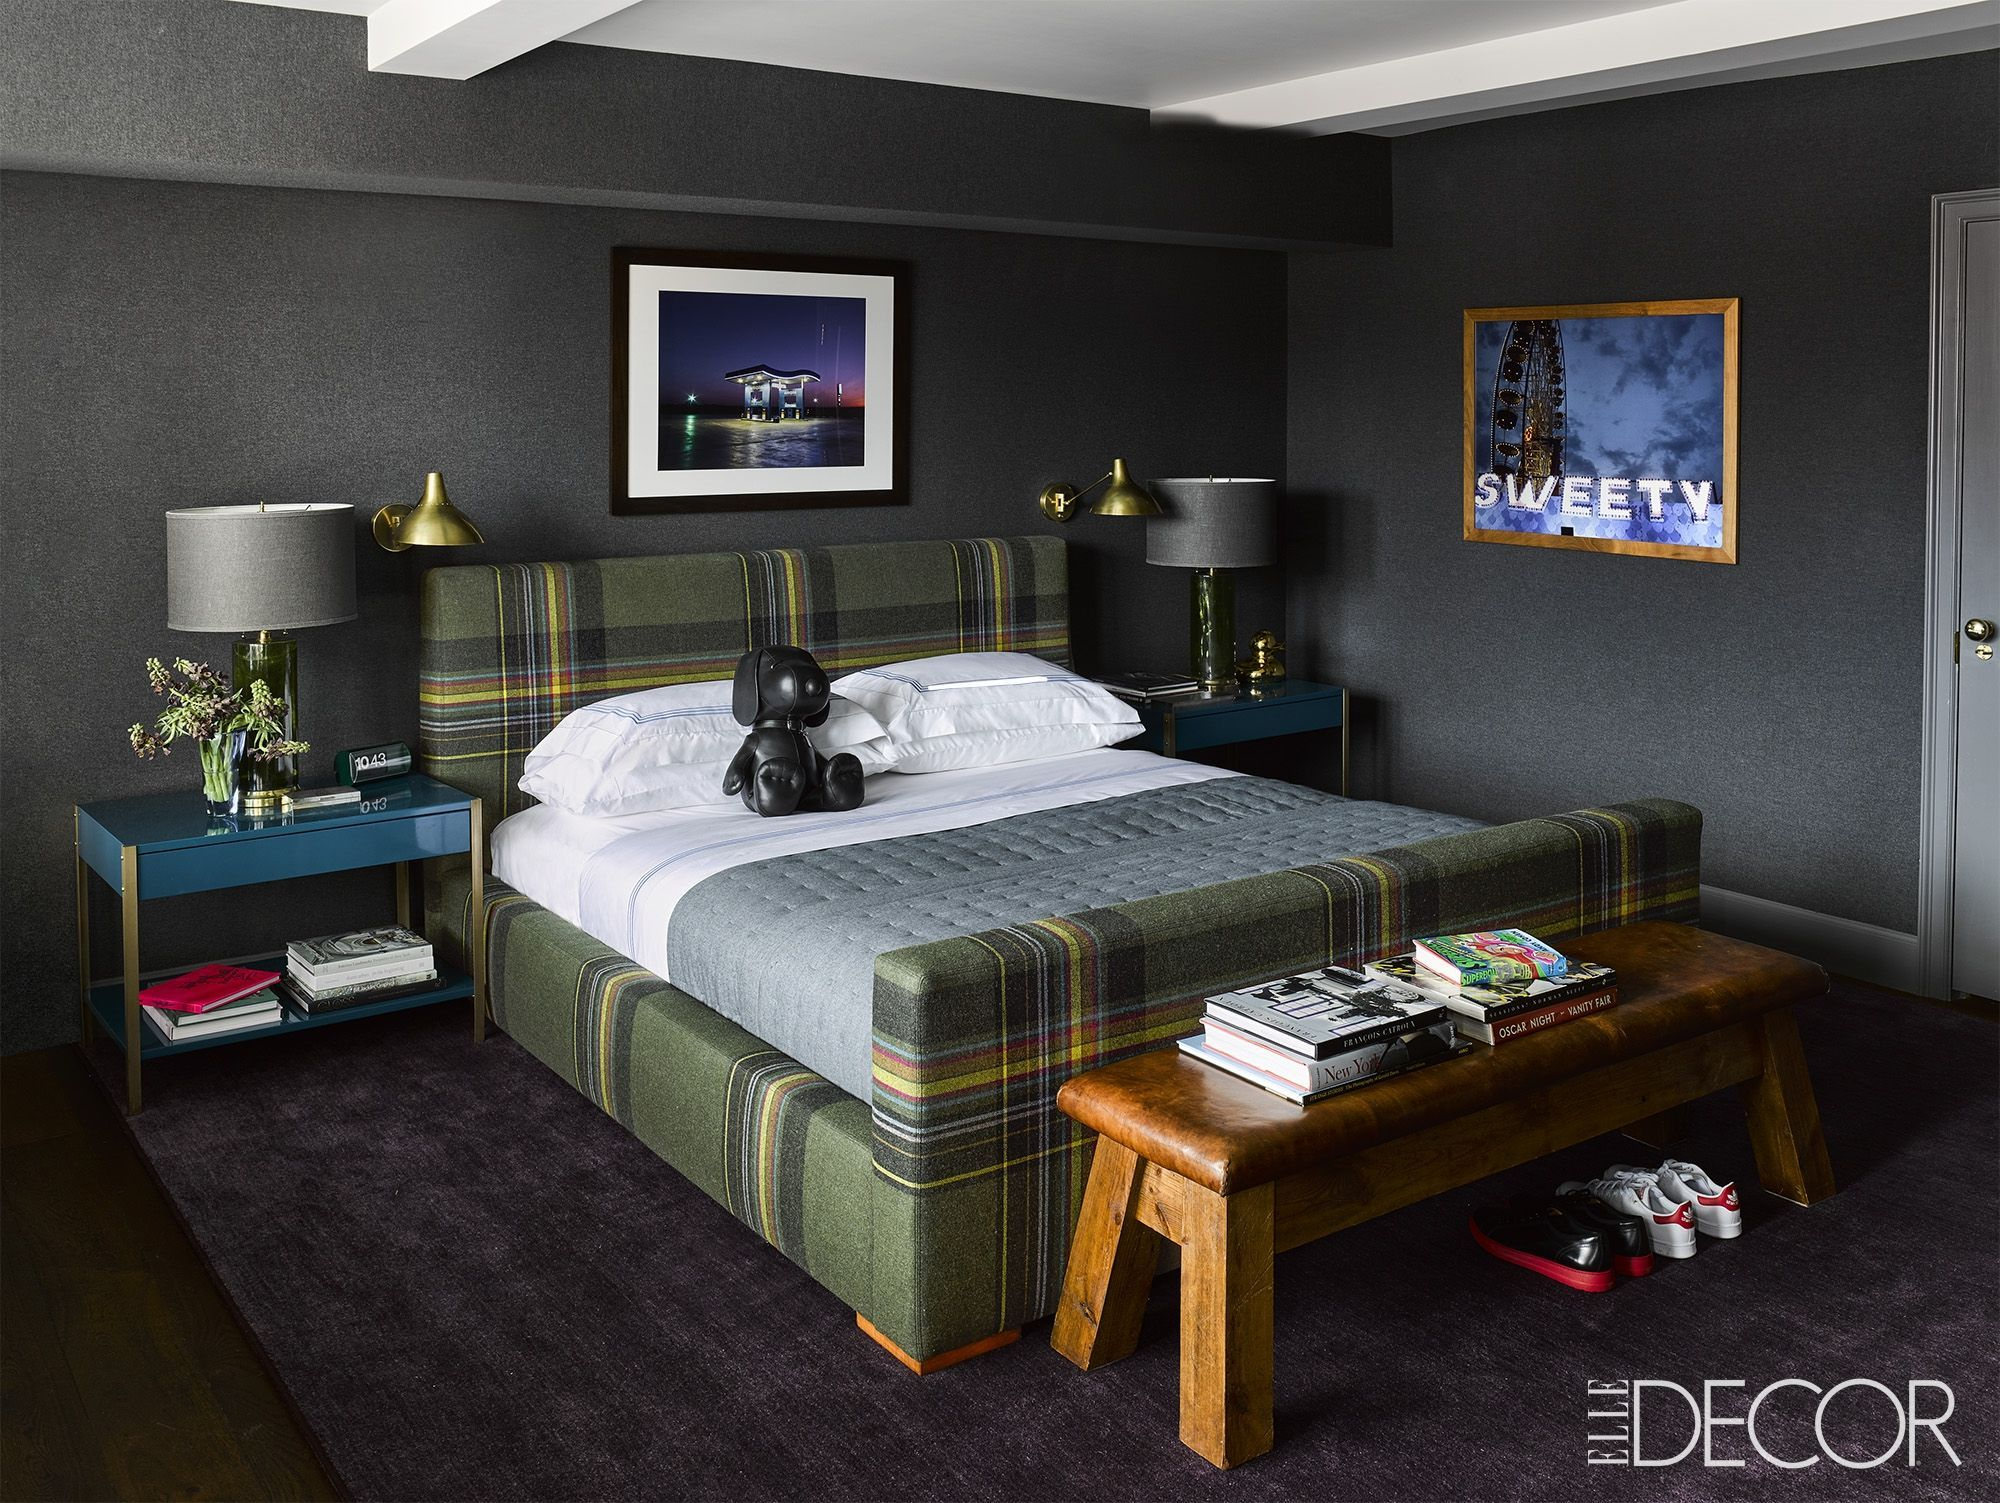bed: (426, 534, 1695, 1372)
lamp: (166, 507, 365, 807), (1135, 478, 1291, 706)
night stand: (68, 786, 483, 1100)
